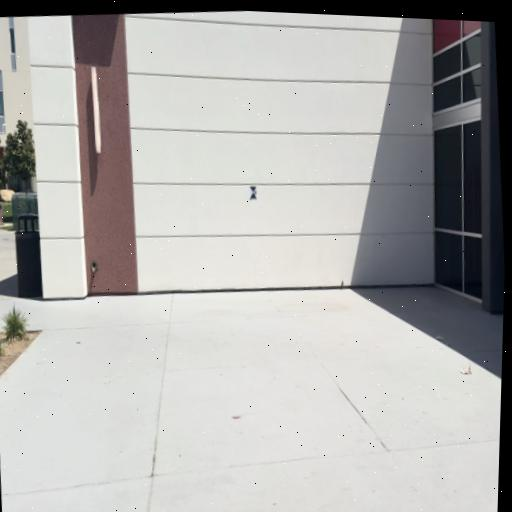target0: (249, 186, 258, 199)
